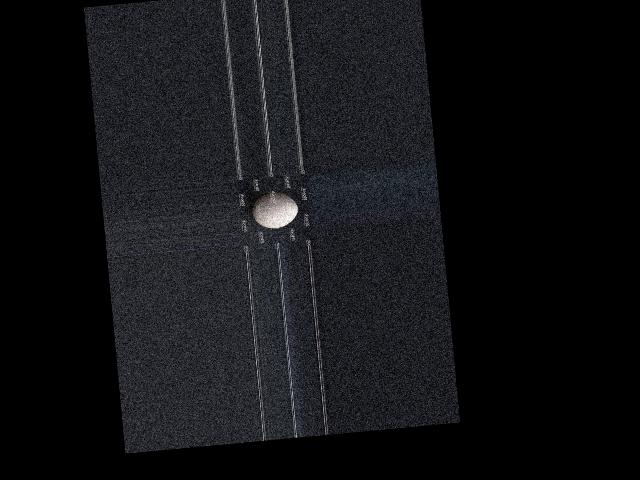egg: (250, 190, 299, 229)
